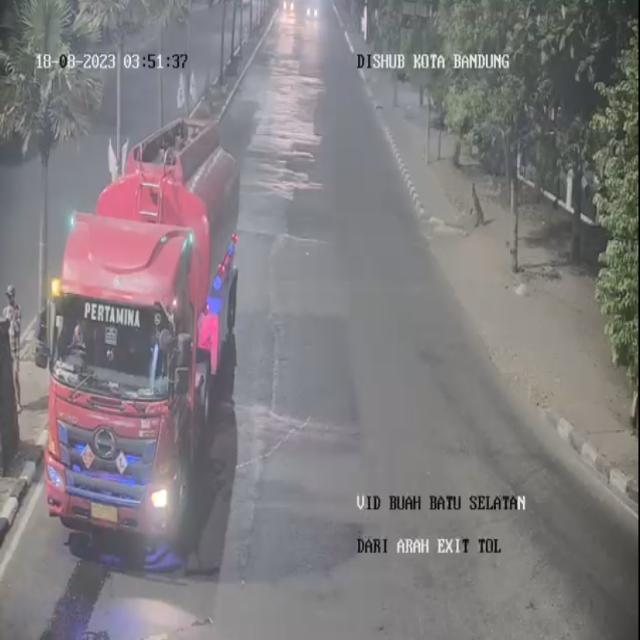truck: (41, 173, 204, 553)
